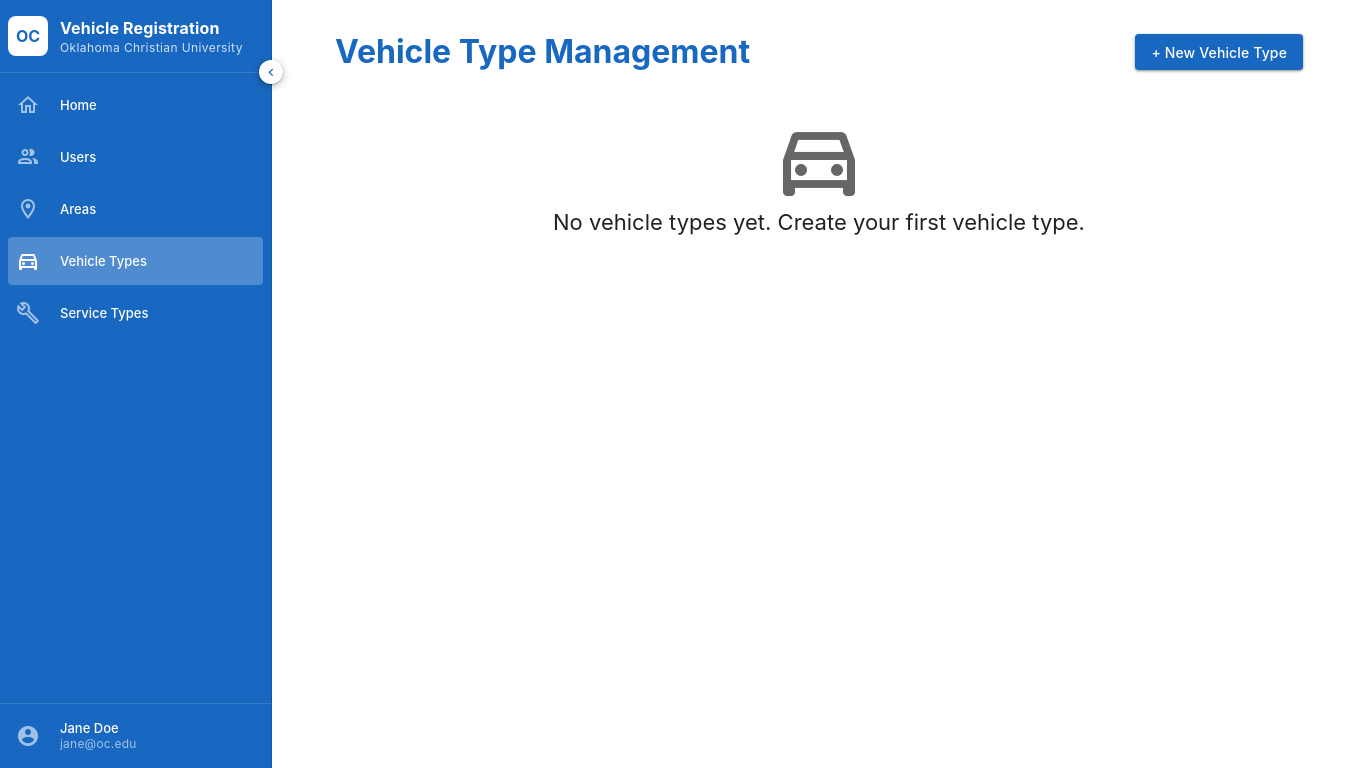
Scenario: Feature 4 — Vehicle Type Management › US-4.1 — Create vehicle types › Admin user creates a vehicle type
Click the button "+ New Vehicle Type": click(1219, 52) [1135,34,1303,70]
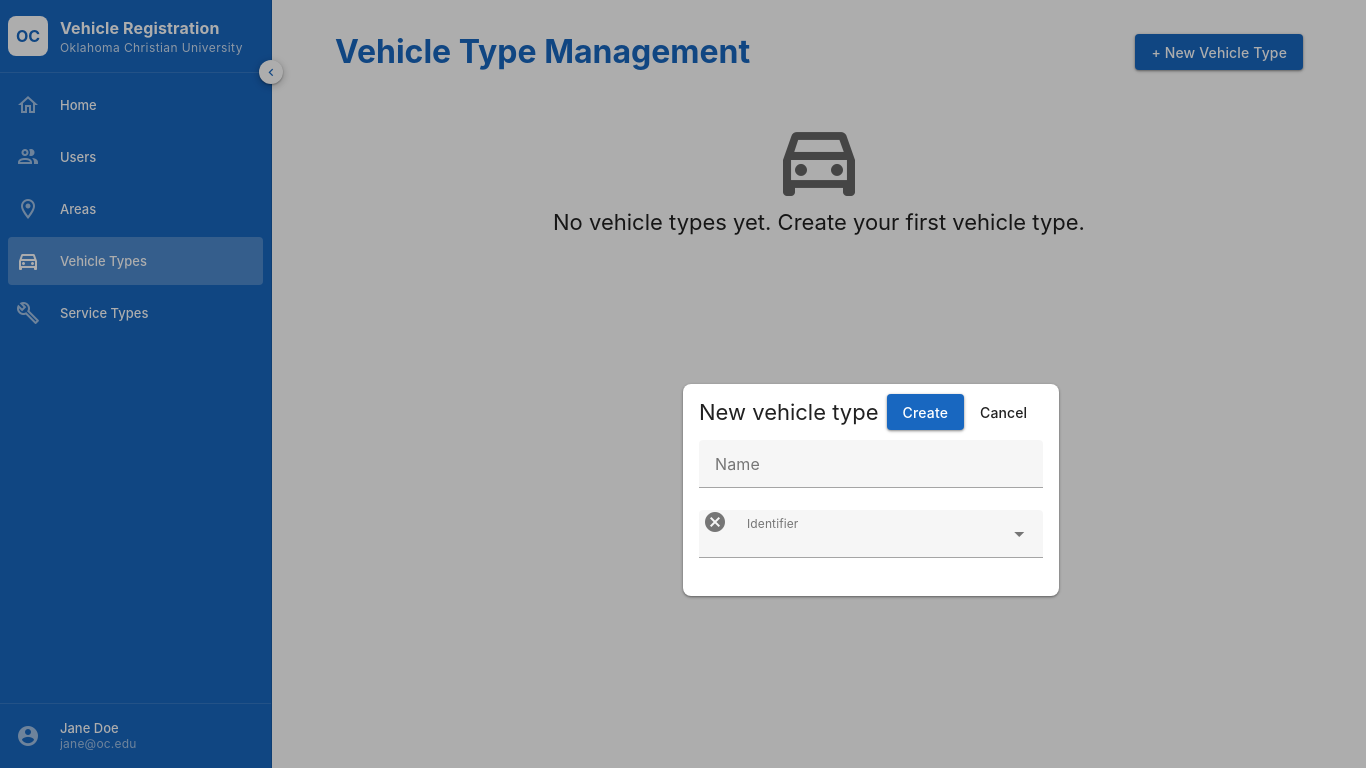
Expected: the text "New Vehicle Type" is shown, [1151,44,1287,60]
Result: the element showing "Name" is shown at [699,440,1043,510]
Result: the element showing "Identifier" is shown at [699,510,1043,580]
